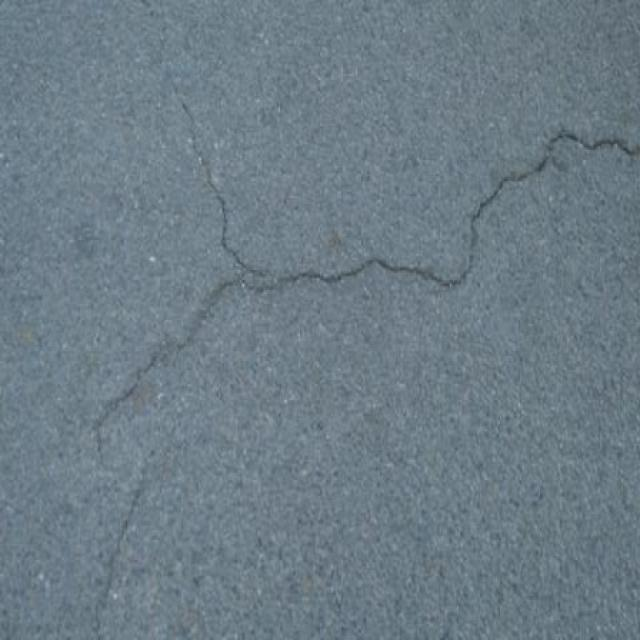Diagonal Crack: (82, 62, 640, 542), (86, 466, 160, 640)
